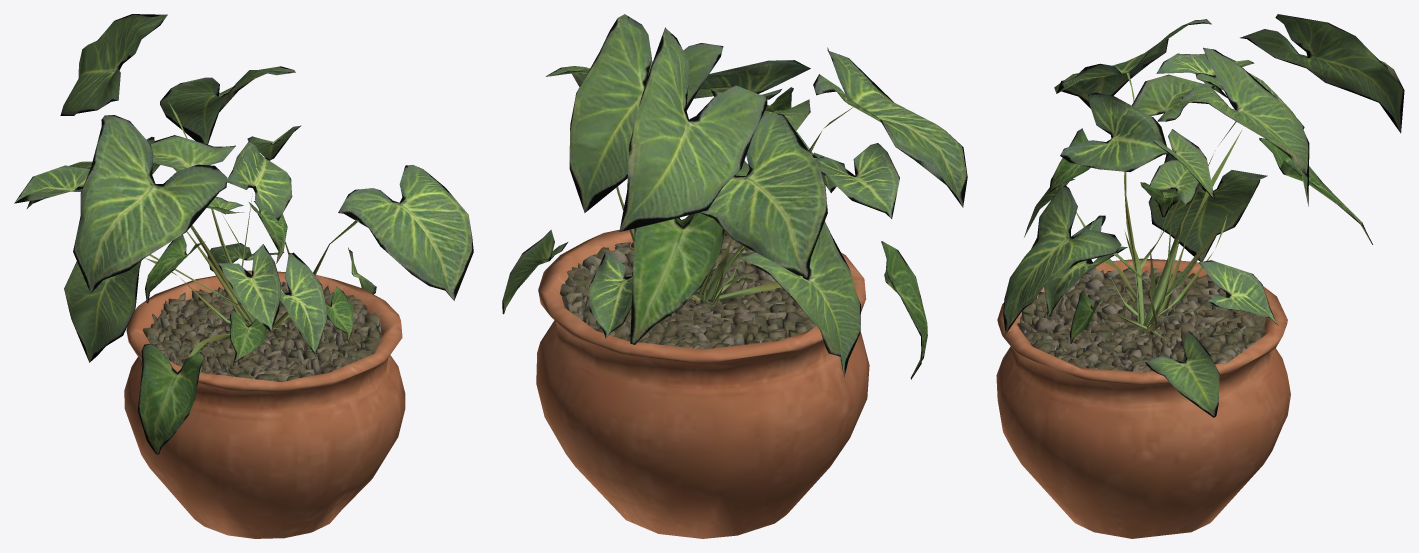
The model's file is potted_plant_02_1k.glb.
3 views of the same model, side by side, from view 1: azimuth 30°, elevation 25°; view 2: azimuth 150°, elevation 25°; view 3: azimuth 270°, elevation 25° (orthographic). The views are drawn at different scales.
Parts seen in each view (by area): view 1: potted_plant_02_leaves, potted_plant_02_pot; view 2: potted_plant_02_leaves, potted_plant_02_pot; view 3: potted_plant_02_pot, potted_plant_02_leaves.
Boxes of the visible parts, x1,y1,x2,y2 form: potted_plant_02_leaves: (14, 14, 473, 454); potted_plant_02_pot: (124, 270, 405, 538); potted_plant_02_leaves: (502, 14, 967, 379); potted_plant_02_pot: (536, 228, 869, 538); potted_plant_02_pot: (996, 258, 1290, 538); potted_plant_02_leaves: (1003, 14, 1404, 417).
Size of the model in its own units: 0.7012 by 0.8395 by 0.6525.
2 materials, 2 textured.
